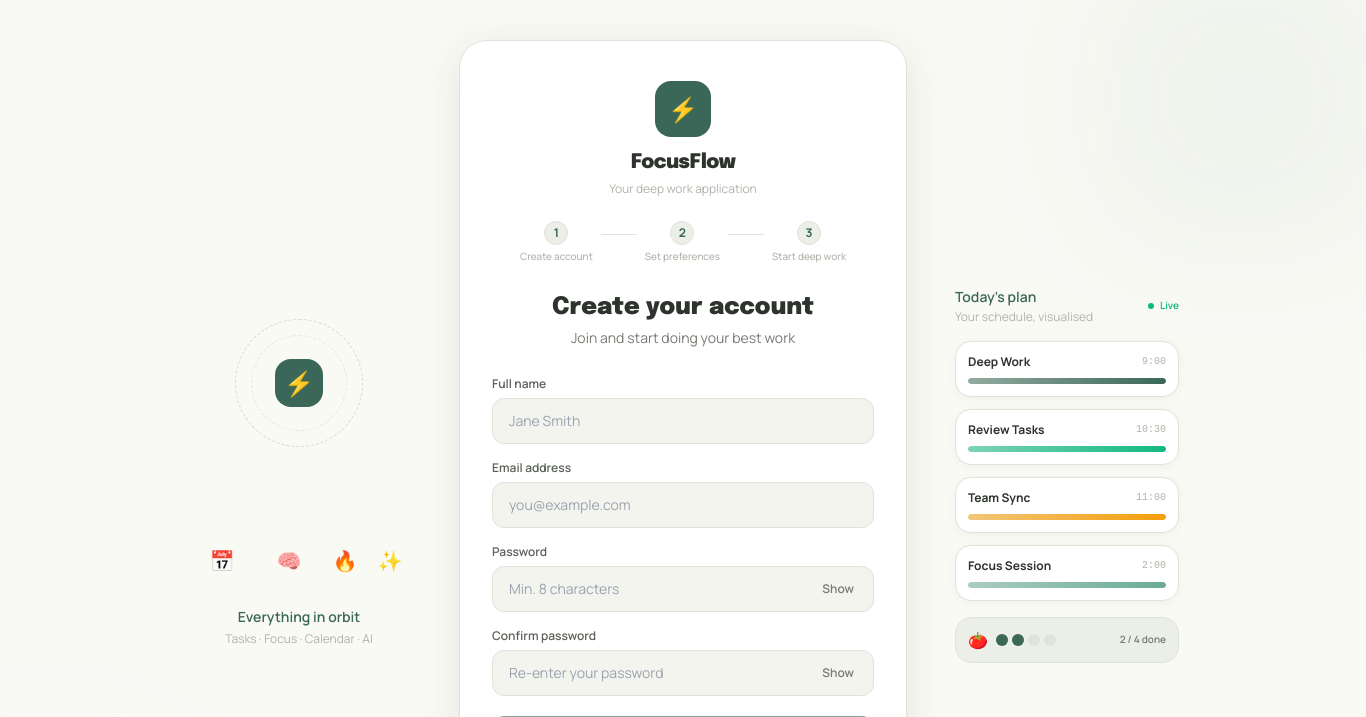
Test: RegisterPage – PasswordStrength rule indicators › length rule shows ○ when password has fewer than 8 characters
Type "abc" into the password field labelled "Password" at coordinates (683, 589), box [492,566,874,612]
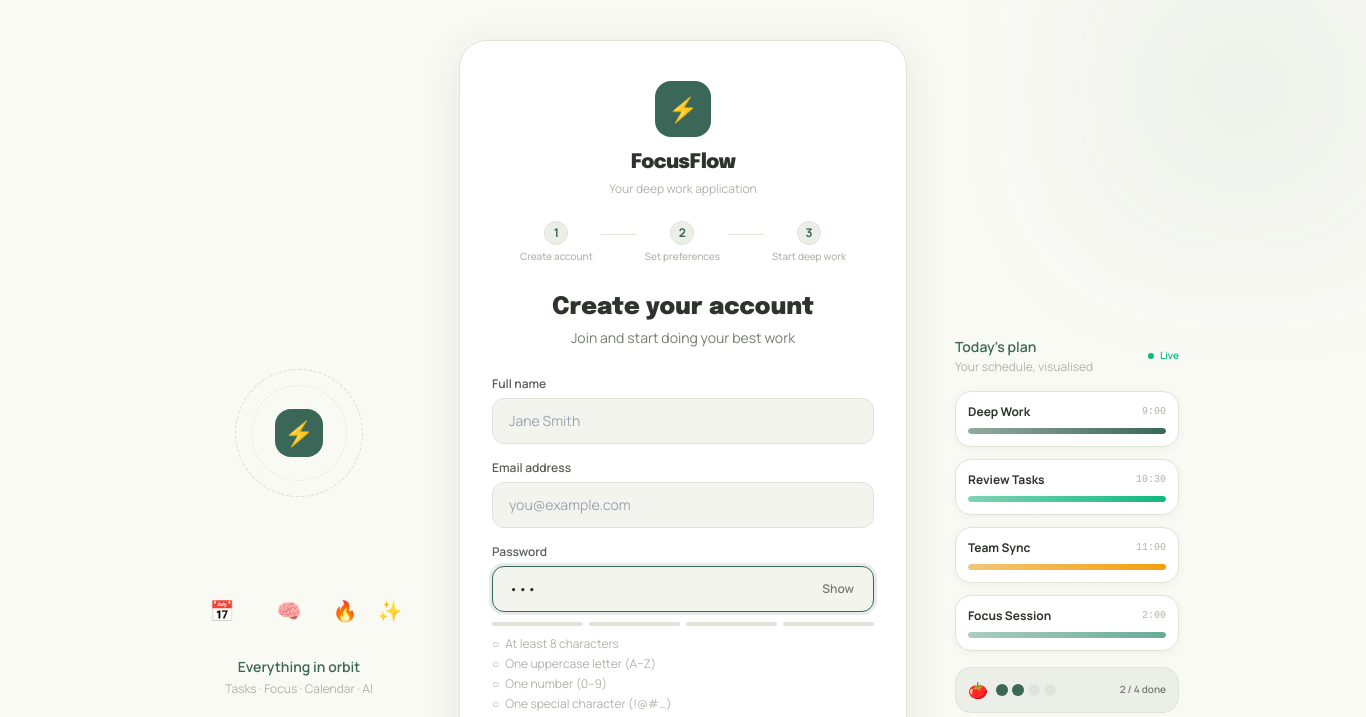
expect the text "○" next to "At least 8 characters" is shown: met, box [492,635,499,652]
